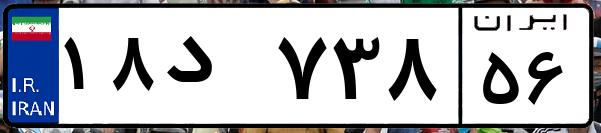1: (57, 26, 110, 100)
3: (330, 28, 385, 110)
5: (475, 38, 525, 113)
6: (525, 38, 570, 115)
7: (270, 28, 330, 110)
8: (385, 28, 445, 110), (110, 28, 158, 98)
د: (158, 20, 270, 120)
